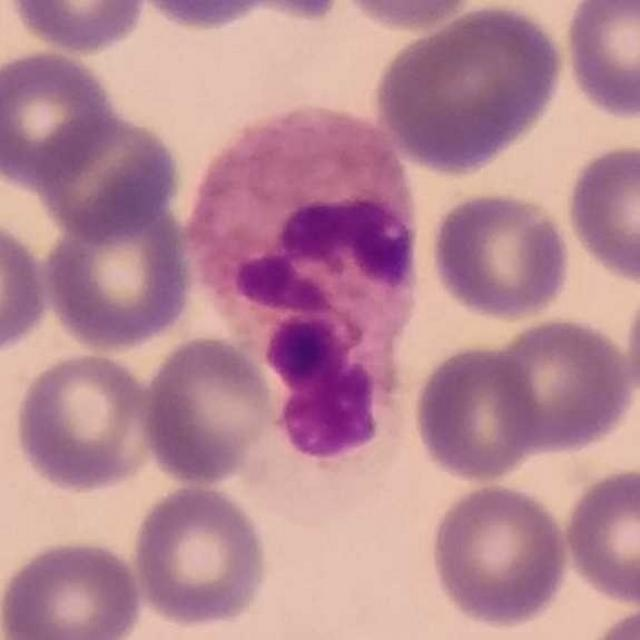Neutrophil: (179, 94, 426, 518)
RBC: (370, 1, 568, 178), (39, 197, 198, 355), (425, 480, 572, 630), (136, 332, 277, 488), (11, 348, 159, 496), (486, 313, 638, 456), (29, 105, 185, 244), (129, 481, 272, 630), (426, 187, 574, 323), (410, 339, 543, 486), (0, 46, 120, 189), (1, 535, 147, 640), (558, 463, 640, 609), (562, 138, 640, 287), (560, 0, 640, 124), (3, 0, 152, 56), (120, 0, 348, 35), (0, 213, 53, 359), (324, 0, 486, 33), (621, 265, 640, 418), (579, 599, 640, 640)
